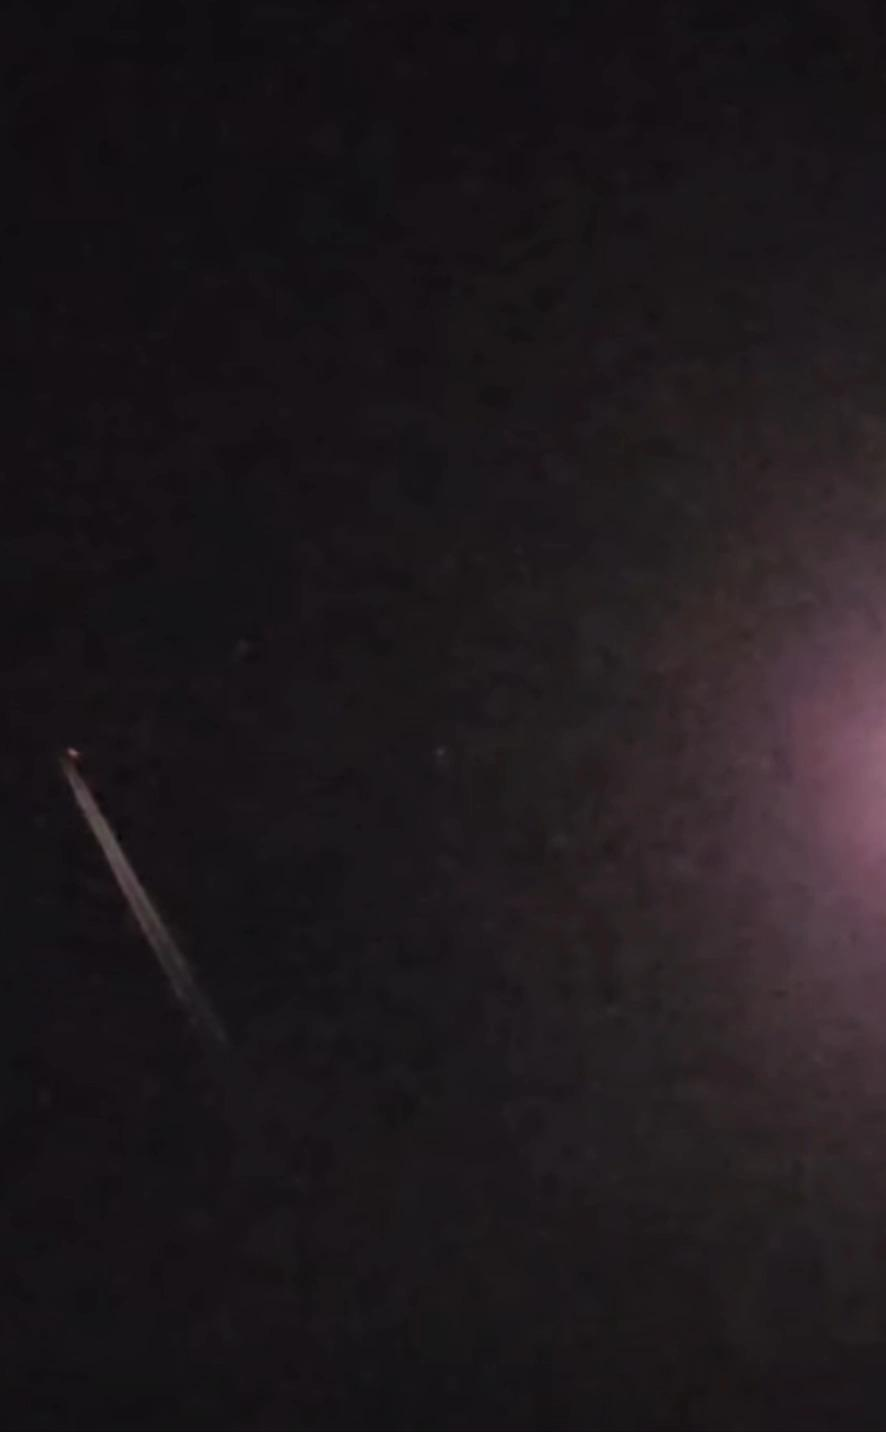Plane: (37, 734, 183, 915)
